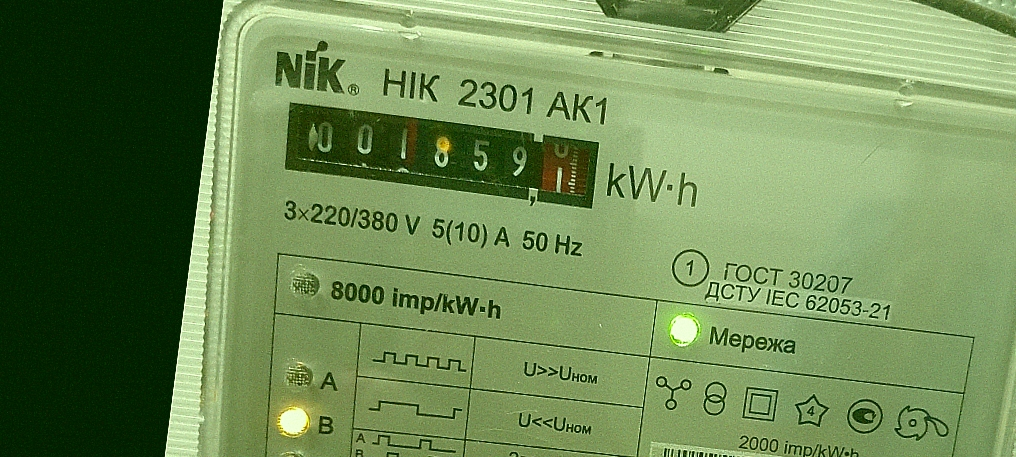0: (312, 117, 336, 155), (352, 120, 375, 155)
1: (395, 124, 411, 161), (550, 162, 566, 194)
5: (468, 135, 492, 172)
8: (429, 132, 453, 169)
9: (506, 141, 529, 178)
screen: (268, 87, 612, 219)
